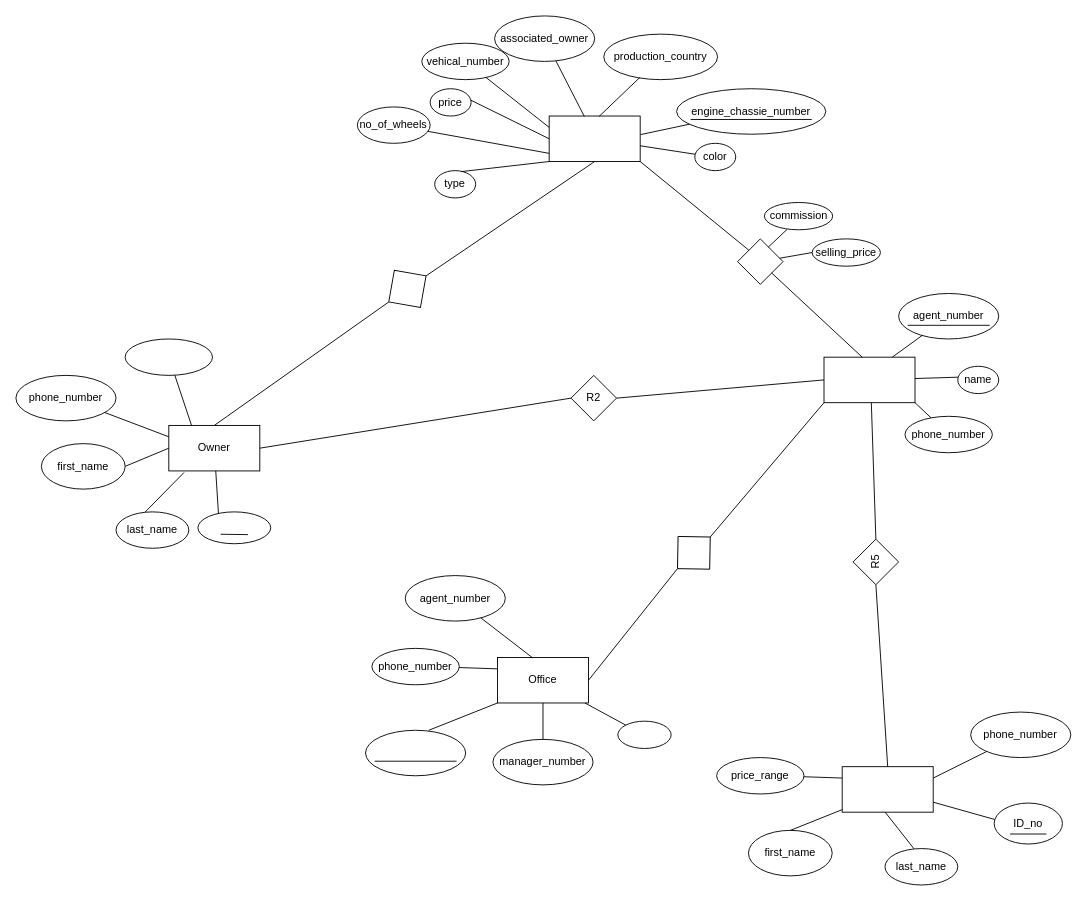
Image size: 1087x901. Some labels were removed from this diagram. The centre of each missing label's shape, as x and y in pixels:
"address" belongs at (x=644, y=734).
"Agent" belongs at (x=869, y=379).
"Buyer" belongs at (x=887, y=789).
"NIC" belongs at (x=234, y=527).
"office_identifier" belongs at (x=415, y=752).
"profession" belongs at (x=168, y=356).
"R1" belongs at (x=407, y=288).
"R3" belongs at (x=760, y=261).
"R4" belongs at (x=693, y=552).
"Vehical" belongs at (x=594, y=138).
